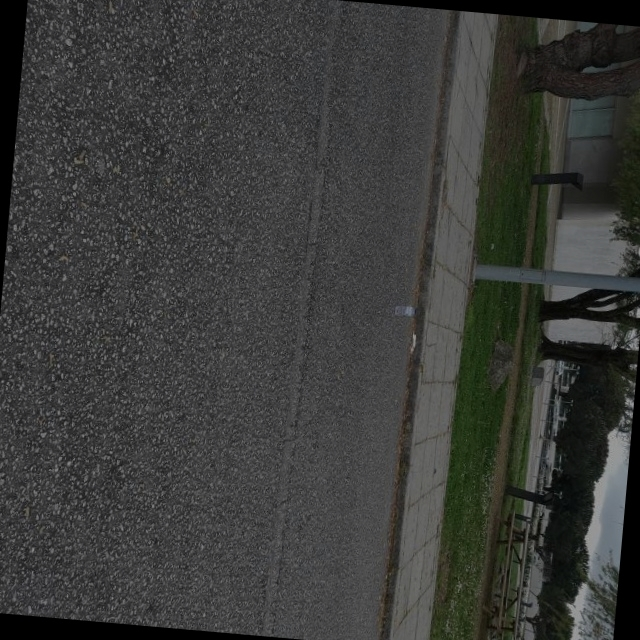Plastic-bottle: (392, 297, 416, 311)
